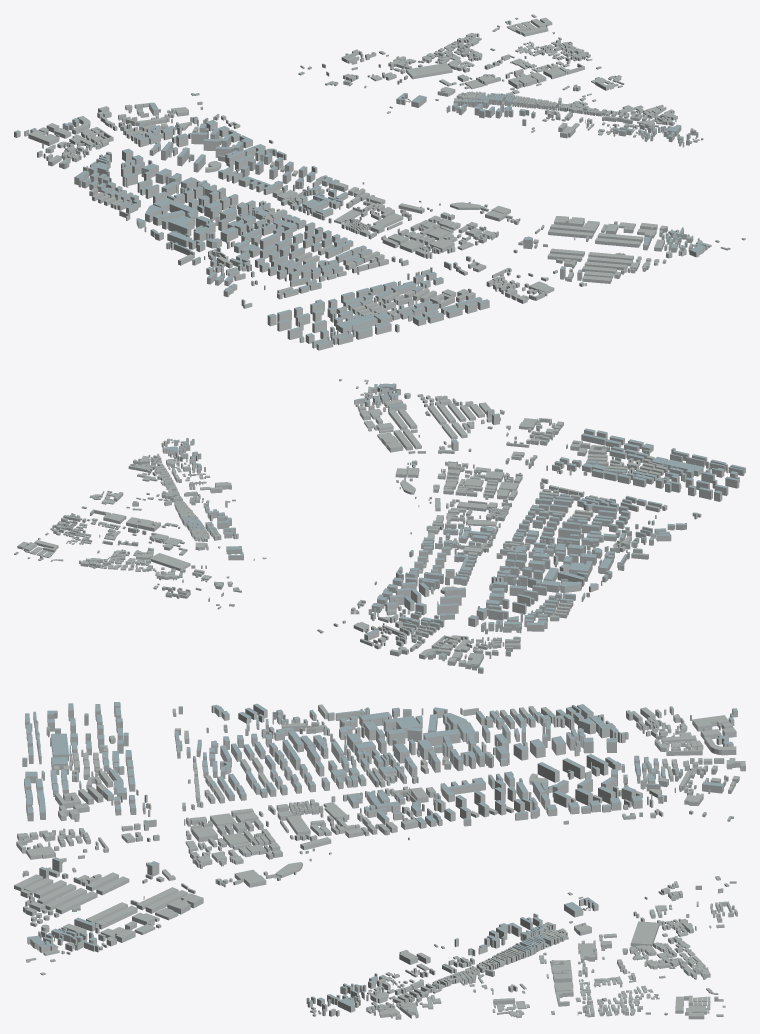
Rendered from far.glb.
The picture shows the model from 3 angles, top to bottom: view 1: azimuth 30°, elevation 25°; view 2: azimuth 150°, elevation 25°; view 3: azimuth 270°, elevation 25°; orthographic projection. The views are drawn at different scales.
Bounding box in the file's own units: 2146 × 39.47 × 2141.
